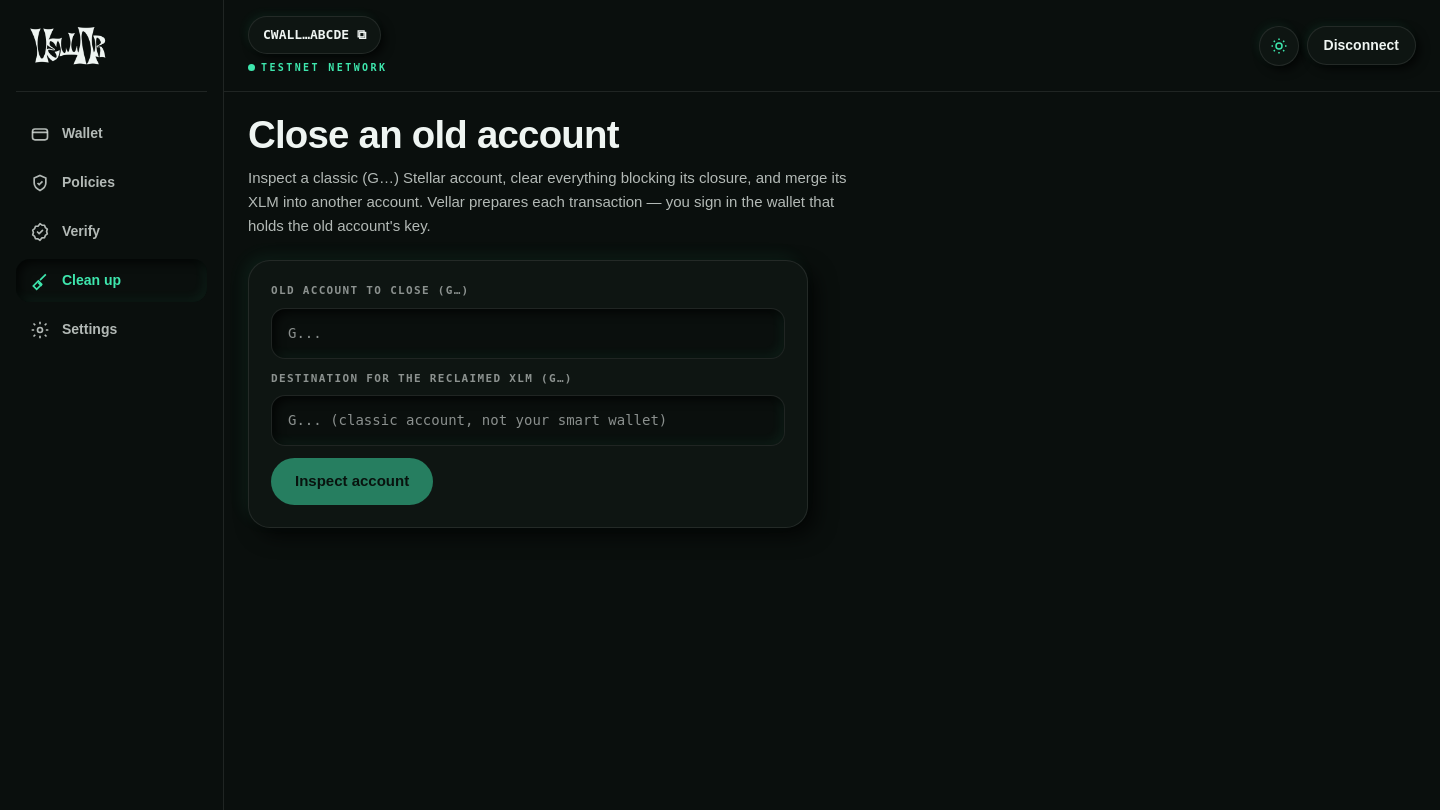
Scenario: Cleanup wizard › auto-advances cleanup → merge → done as hashes land
Type "GCMCEGOUVALP2H6LTY7IPUUMSFKDQUMK3SDU5DI7LETNEZZKHRIIALKM" into the field labelled "Old account to close (G…)" at (528, 333), box [271,308,785,359]
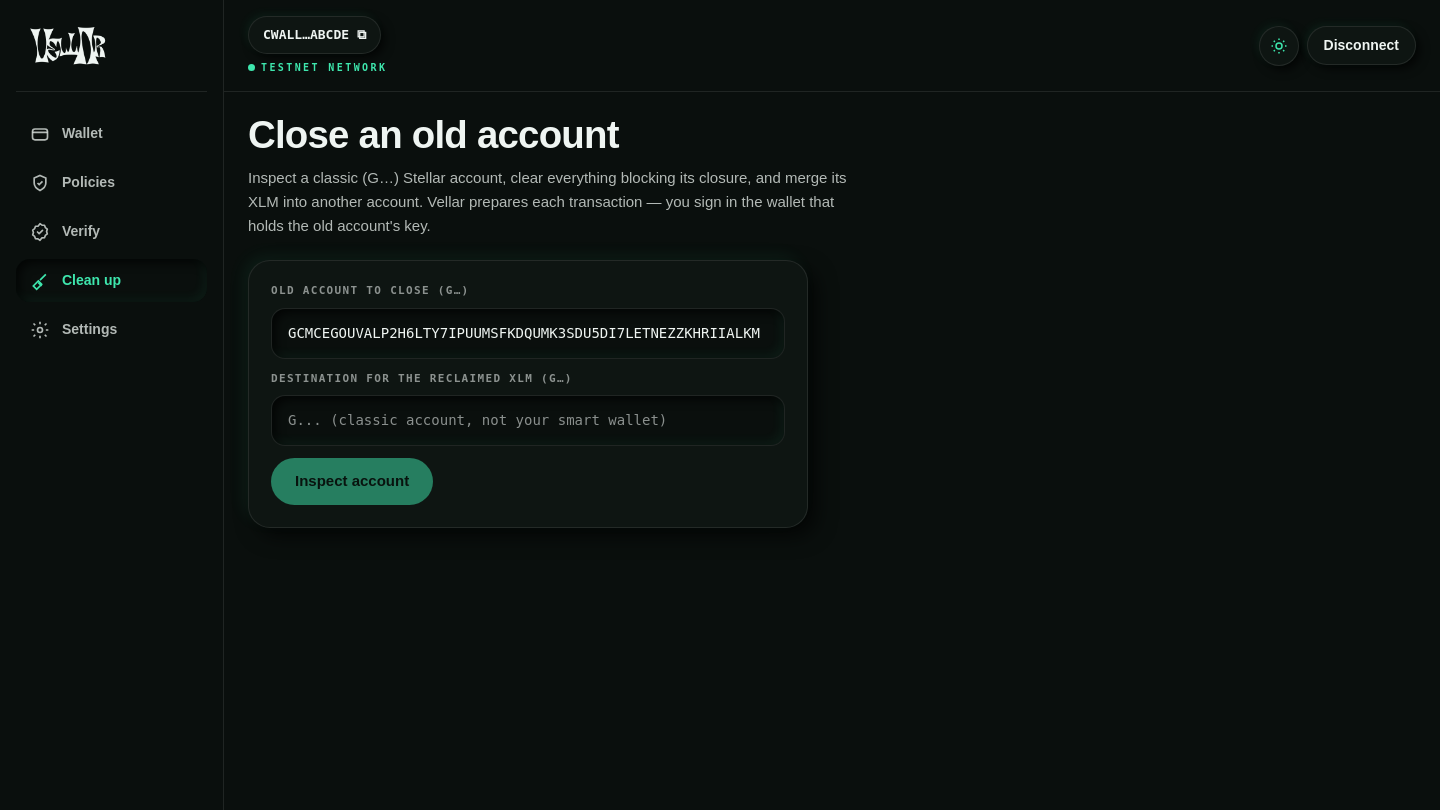
Type "GDQNY3PBOJOKYZSRMK2S7LHHGWZIUISD4QORETLMXEWXBI7KFZZMKTL3" into the field labelled "Destination for the reclaimed XLM (G…)" at (528, 421), box [271,395,785,446]
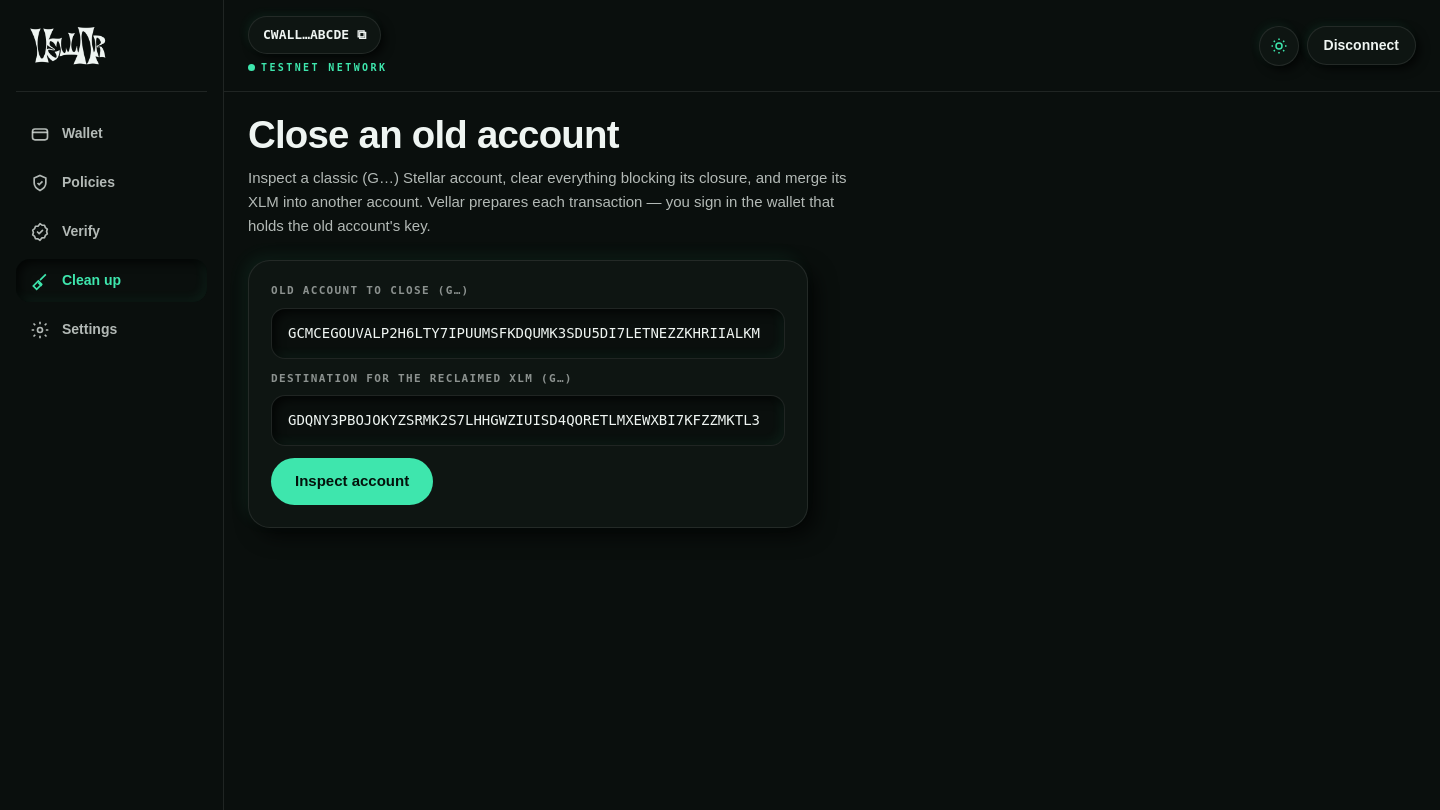
Click the button "Inspect account" at (352, 482), box [271,458,433,505]
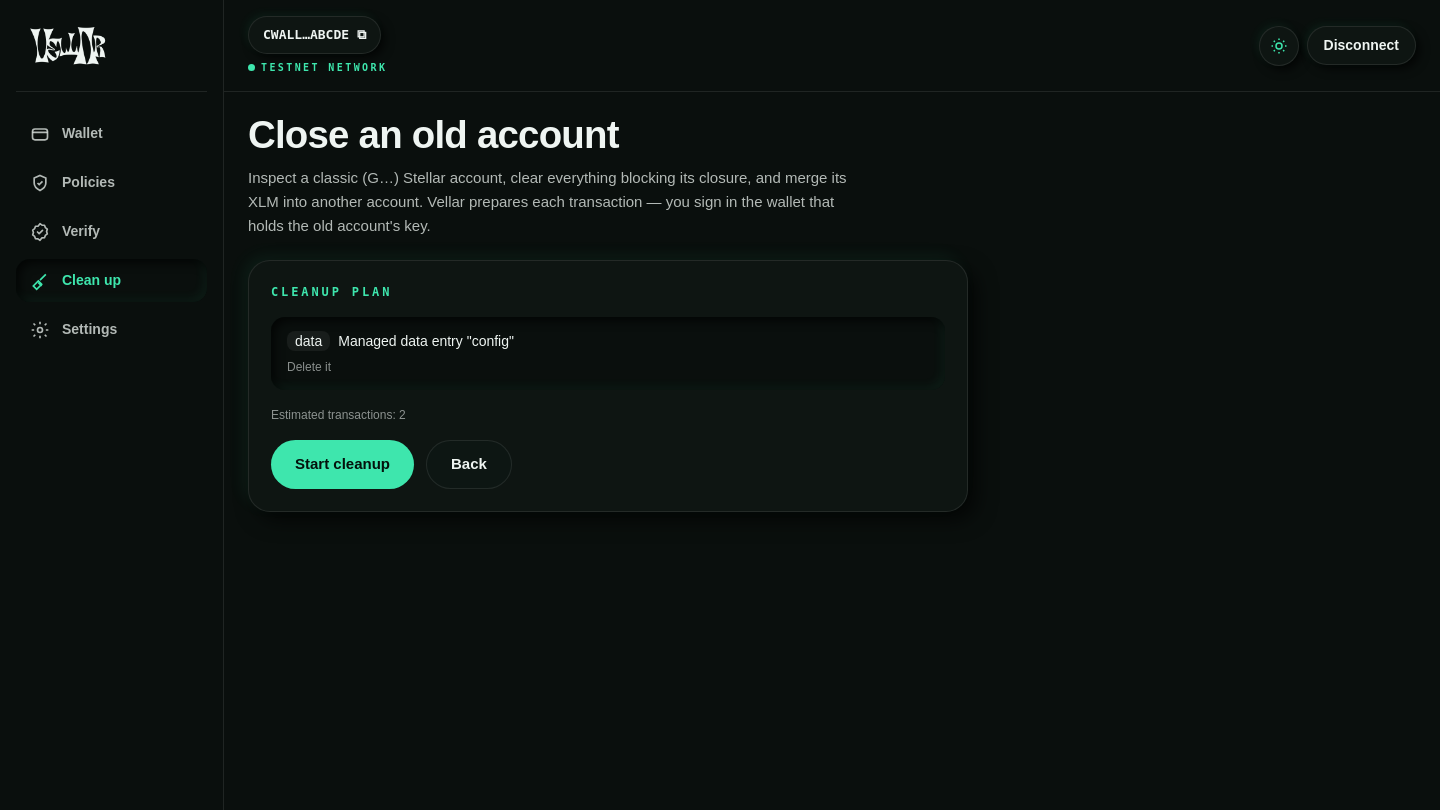
Expected: the text "Cleanup plan" is shown, [271,285,392,299]
Click the button "Start cleanup" at (342, 465), box [271,440,414,489]
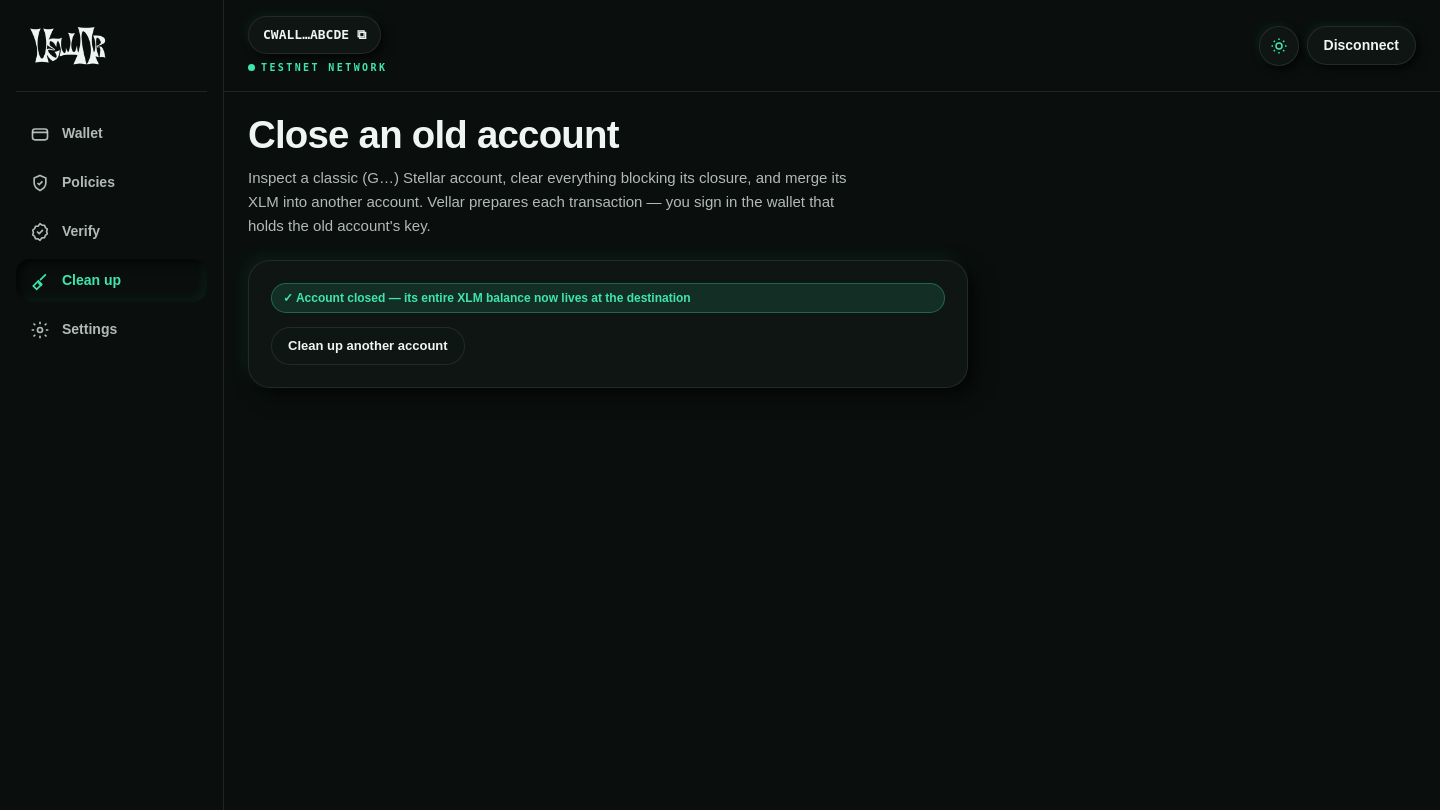
Expected: the text "Account closed" is shown, [283,291,691,305]
